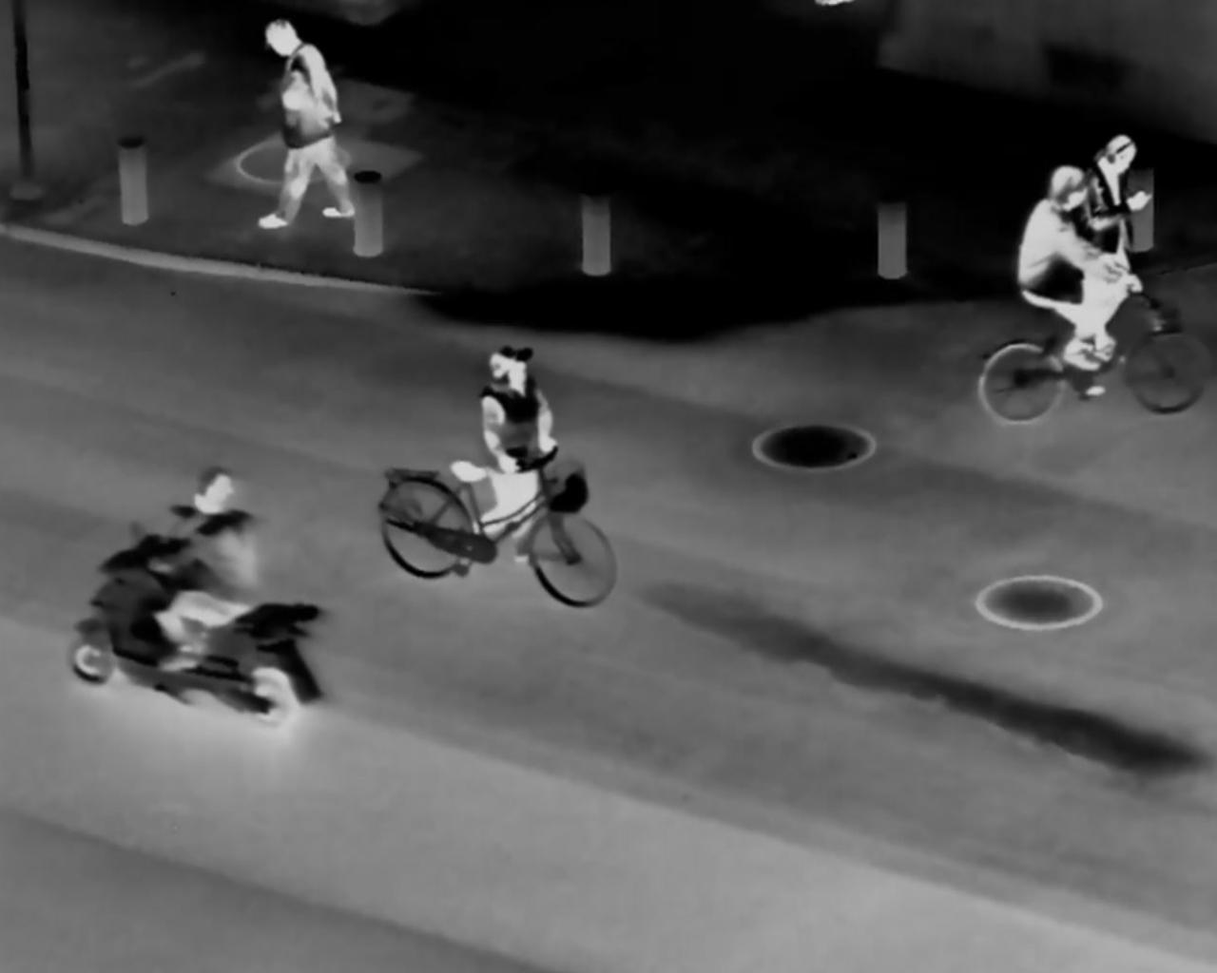person: (247, 19, 358, 231), (1017, 162, 1117, 388), (153, 460, 260, 664), (467, 336, 557, 569), (1091, 124, 1150, 334)
